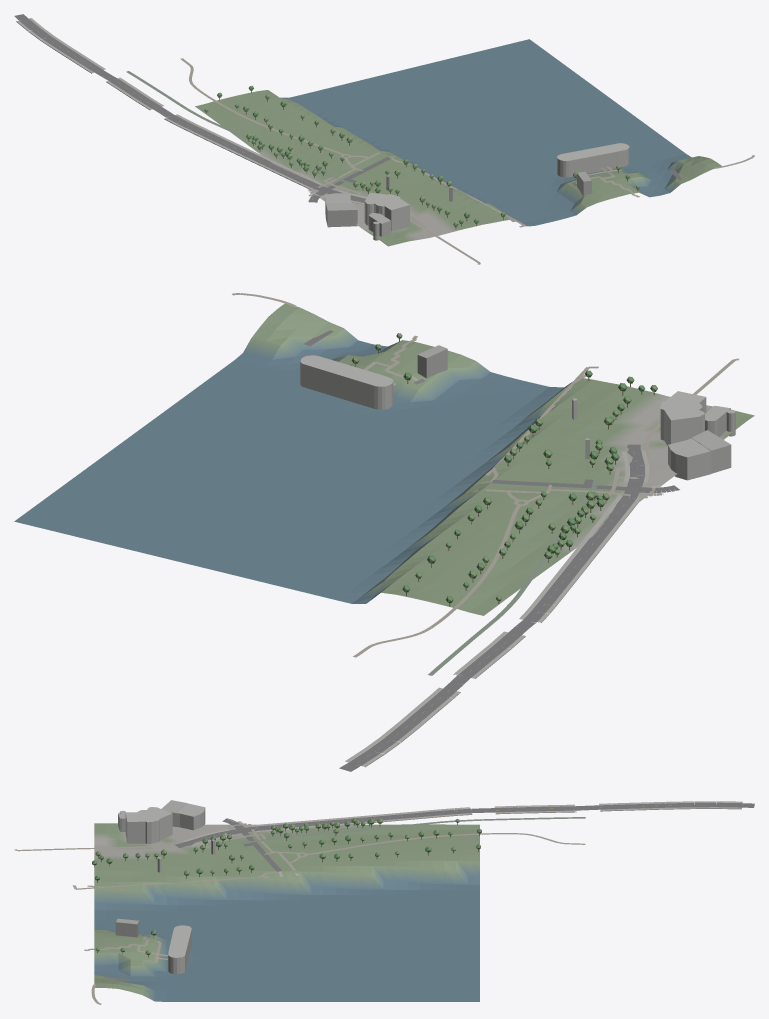
File: tile_0_1.glb
The picture shows the model from 3 angles, top to bottom: view 1: azimuth 30°, elevation 25°; view 2: azimuth 150°, elevation 25°; view 3: azimuth 270°, elevation 25°; orthographic projection. The views are drawn at different scales.
Parts seen in each view (by area): view 1: terrain, buildings, roads, paths, props, sidewalks; view 2: terrain, buildings, roads, paths, props, sidewalks; view 3: terrain, buildings, roads, paths, props, sidewalks.
Part boxes in pixels (<box>): terrain: <box>195,39,721,246</box>; buildings: <box>325,143,629,240</box>; roads: <box>14,14,681,202</box>; paths: <box>126,58,754,264</box>; props: <box>204,85,640,228</box>; sidewalks: <box>16,18,366,204</box>; terrain: <box>14,303,754,615</box>; buildings: <box>300,345,735,480</box>; roads: <box>304,330,679,771</box>; paths: <box>232,293,739,675</box>; props: <box>351,333,657,606</box>; sidewalks: <box>345,451,663,767</box>; terrain: <box>94,823,479,1001</box>; buildings: <box>115,800,215,974</box>; roads: <box>103,802,754,981</box>; paths: <box>14,817,585,1004</box>; props: <box>92,818,481,957</box>; sidewalks: <box>183,801,742,846</box>.
Bounding box in the file's own units: 320 × 26.28 × 492.
